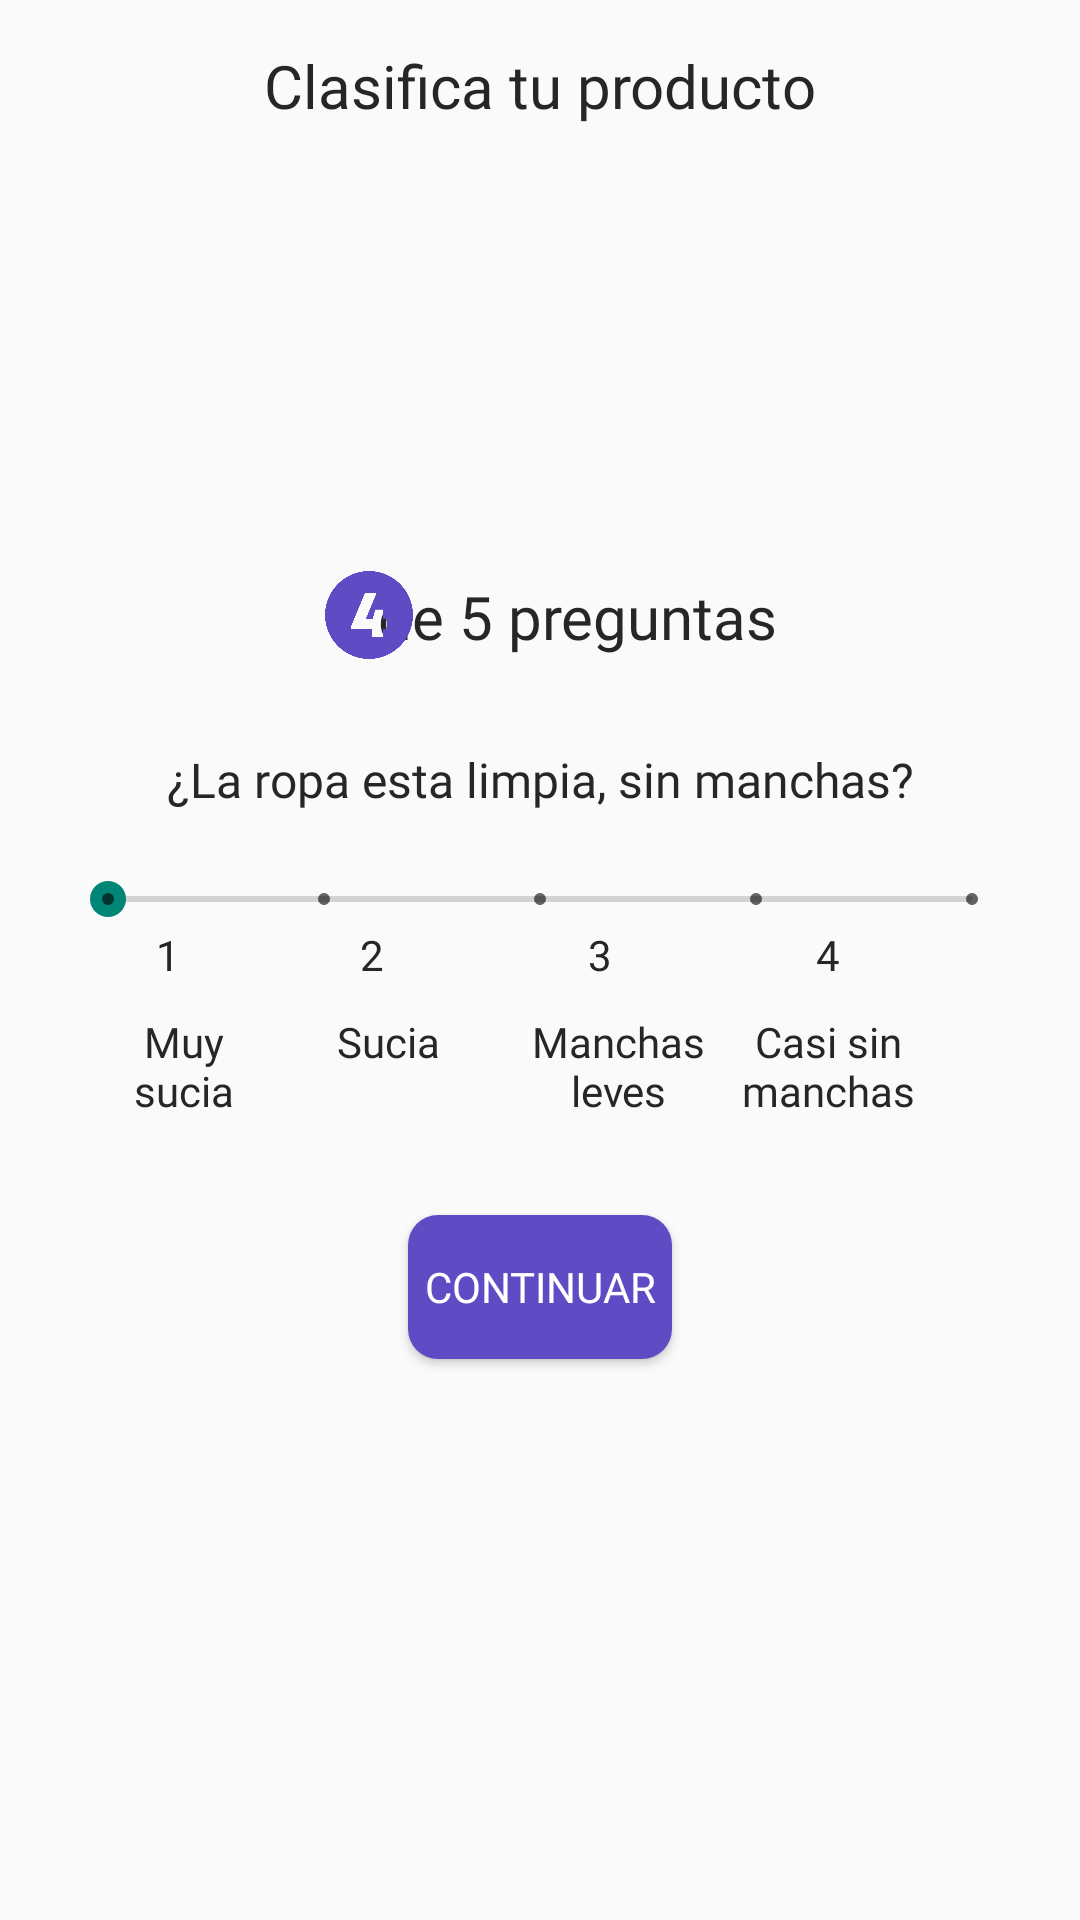

Locate icon controls on the screen. Image size 1080px×1920px, boxes as (x1, y1, x2, y2).
numero: (325, 571, 413, 659)
